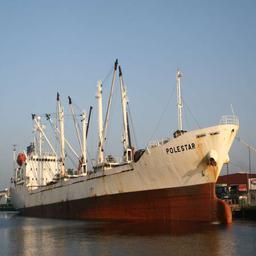Ship: (8, 116, 242, 232)
